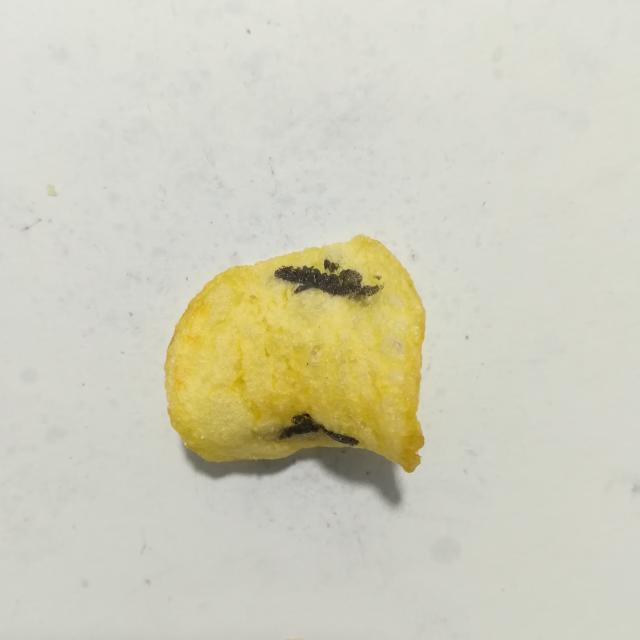chip: (164, 235, 425, 472)
damaged: (274, 259, 381, 298), (279, 413, 359, 446)
semi-damaged: (263, 426, 332, 444)
